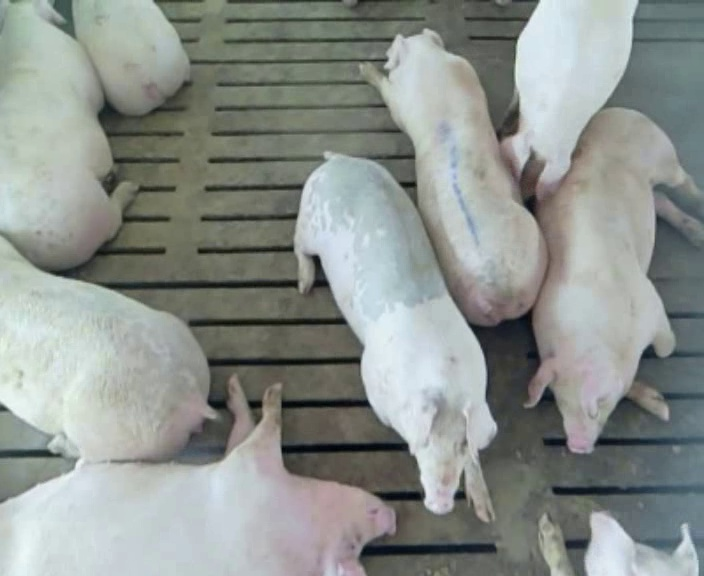pig: (0, 377, 395, 574), (294, 152, 496, 520), (525, 108, 703, 452), (360, 29, 545, 325), (0, 3, 136, 269), (496, 2, 635, 198), (73, 3, 189, 114)
